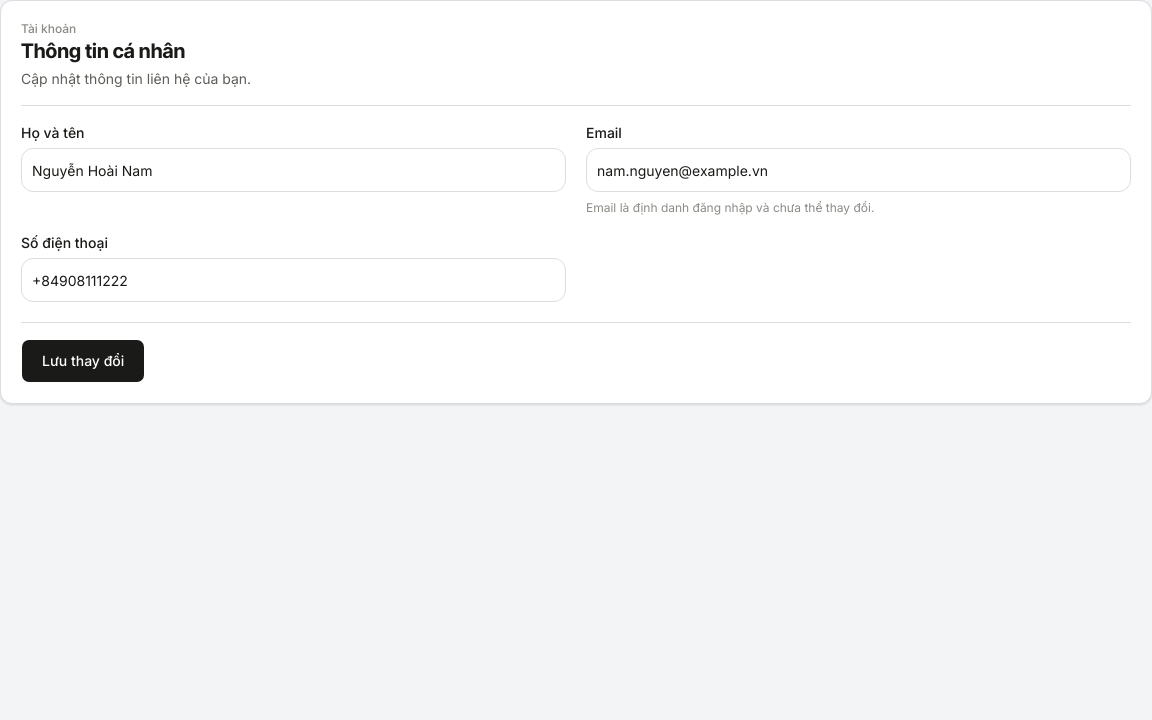
Test case: CustomerProfileForm › allows manual reload after a background success finishes while conflict is visible
Replace the text in the field showing "Nguyễn Hoài Nam" with "Bản nháp cục bộ" at (294, 170), box left=21, top=148, right=566, bottom=192
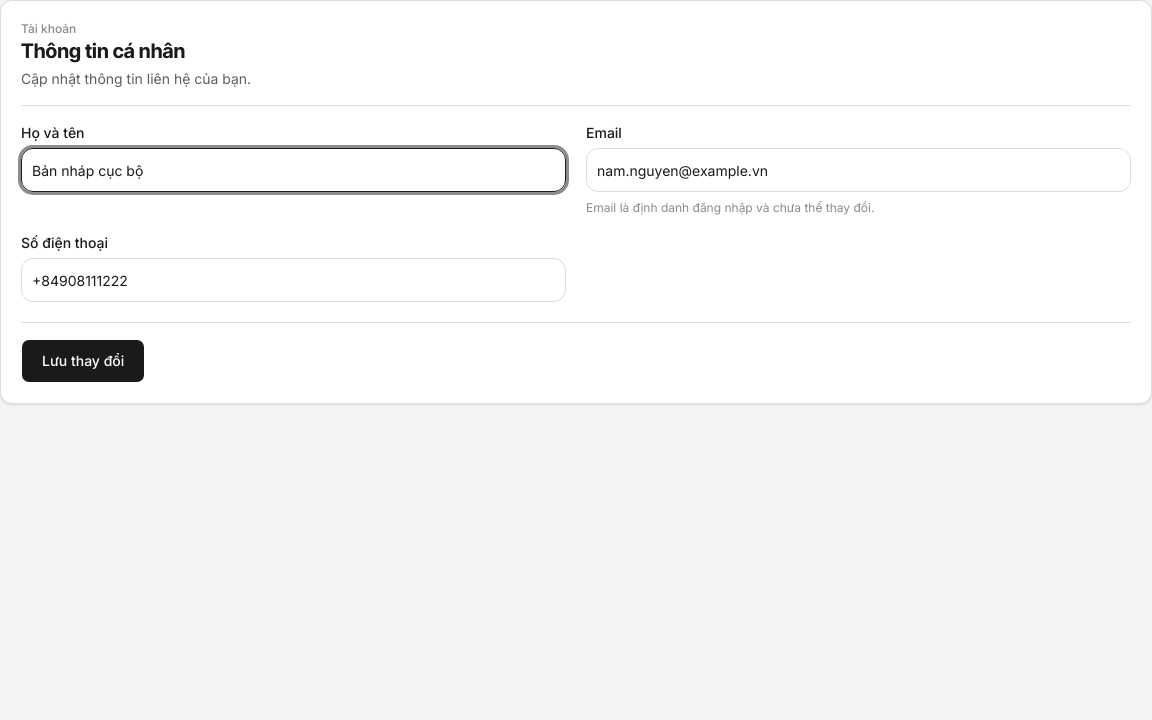
Click the button "Lưu thay đổi" at (83, 361), box left=21, top=339, right=145, bottom=383
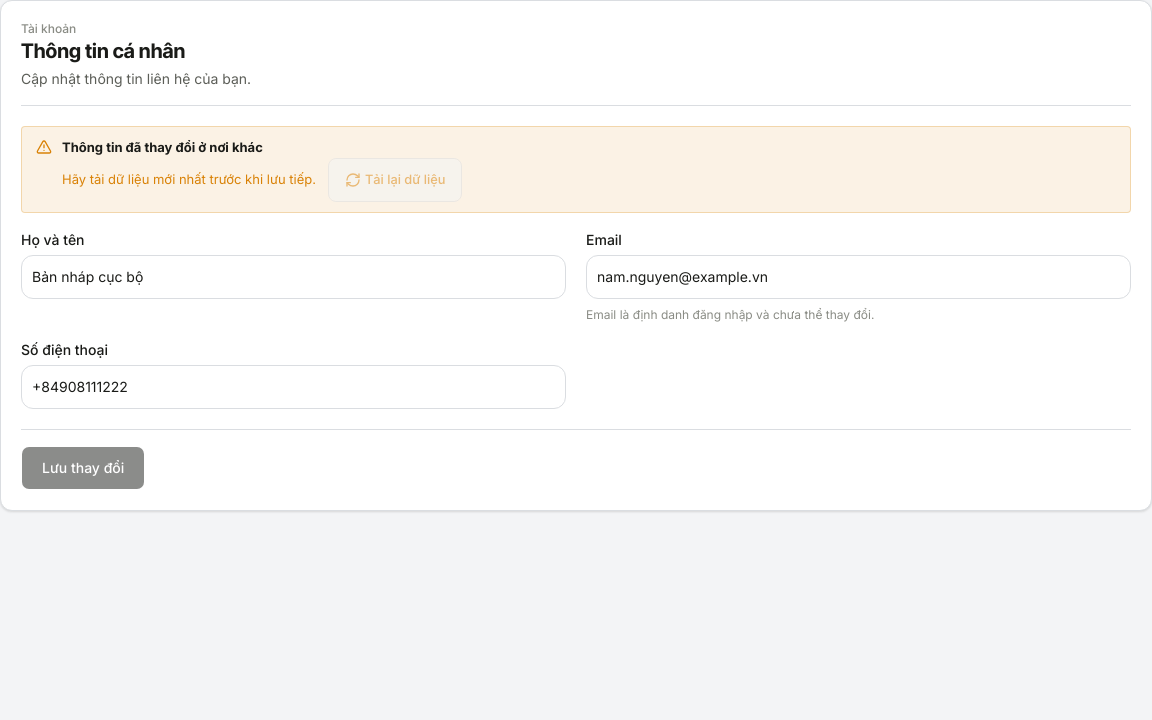
Expected: the button "Tải lại dữ liệu" is disabled
Click the button "Tải lại dữ liệu" at (395, 180), box left=328, top=158, right=462, bottom=202
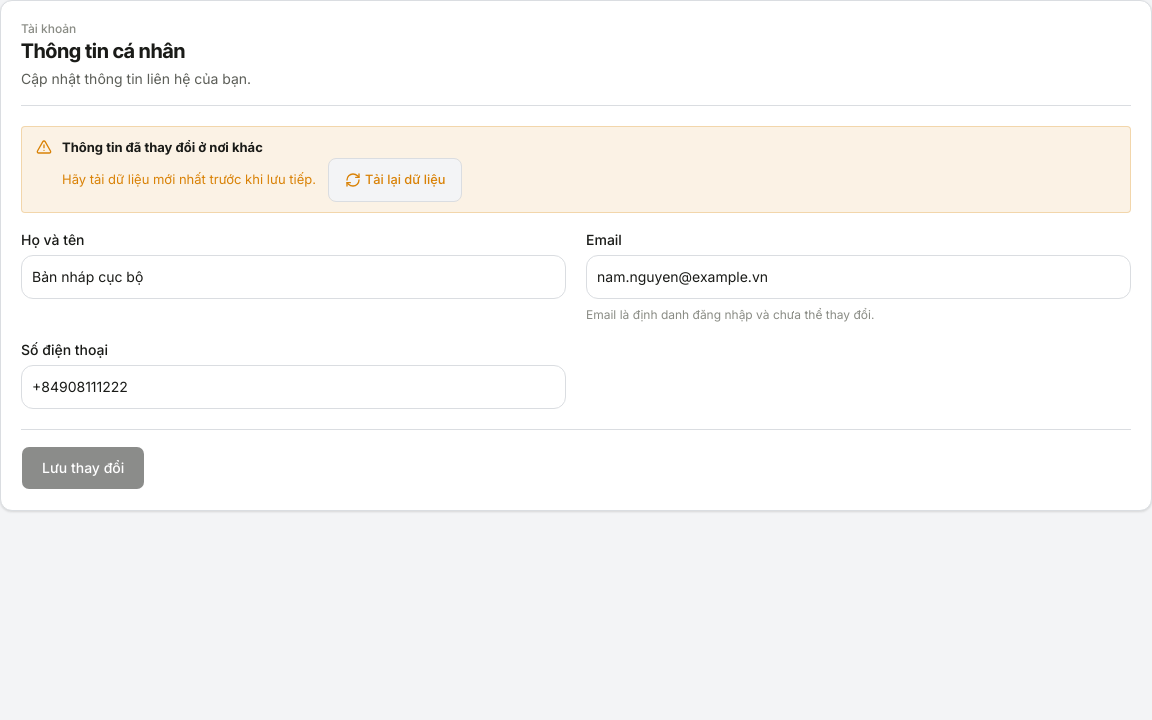
Expected: the text "Thông tin đã thay đổi ở nơi khác" is shown, left=62, top=139, right=263, bottom=155
Expected: the button "Lưu thay đổi" is disabled, left=21, top=446, right=145, bottom=490
Expected: the button "Tải lại dữ liệu" is enabled
Click the button "Tải lại dữ liệu" at (395, 180), box left=328, top=158, right=462, bottom=202
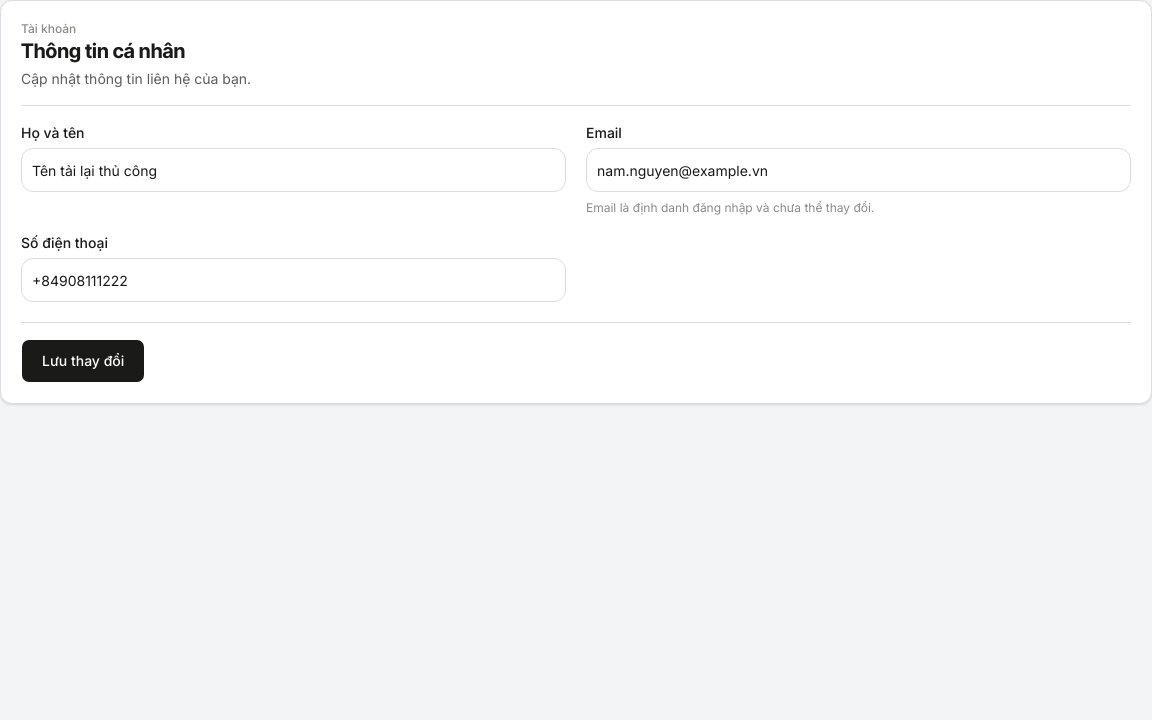
Expected: the field showing "Nguyễn Hoài Nam" holds "Tên tải lại thủ công", left=21, top=148, right=566, bottom=192
Expected: the text "Thông tin đã thay đổi ở nơi khác" is gone
Expected: the button "Lưu thay đổi" is enabled, left=21, top=339, right=145, bottom=383
